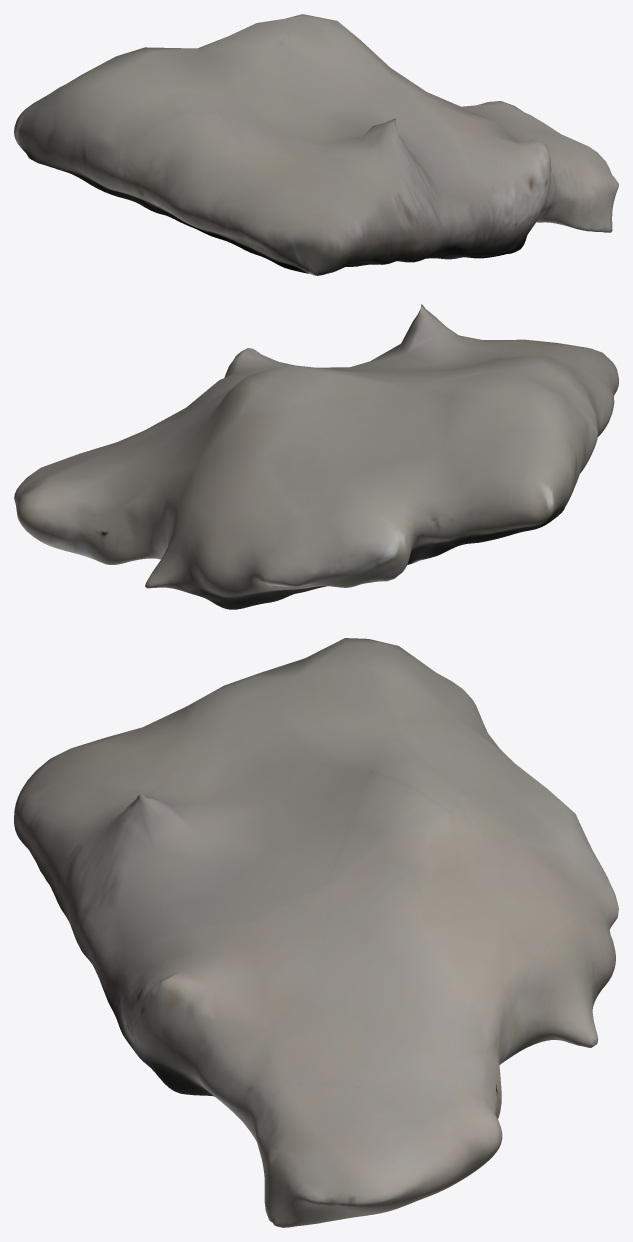
The picture shows the model from 3 angles, top to bottom: view 1: azimuth 30°, elevation 25°; view 2: azimuth 150°, elevation 25°; view 3: azimuth 270°, elevation 25°; orthographic projection. The views are drawn at different scales.
Bounding box in the file's own units: 0.4249 × 0.1872 × 0.3279.
1 material, 1 textured.
